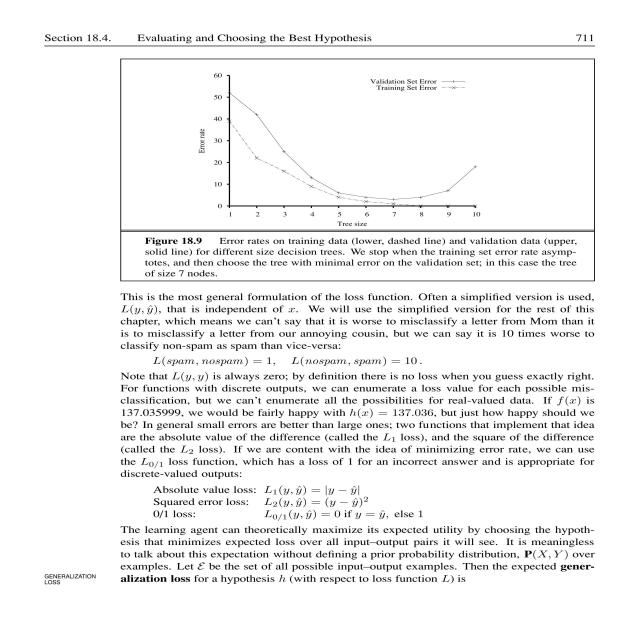diagram: (94, 51, 604, 286)
